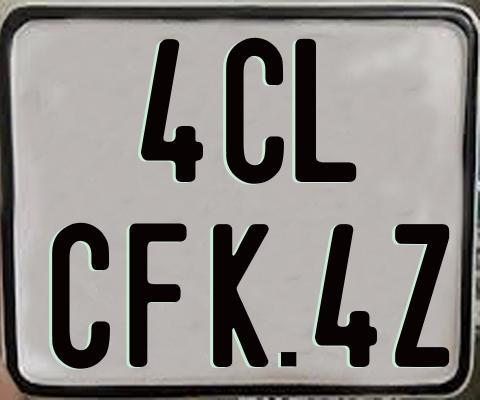4: (138, 36, 205, 183), (312, 223, 378, 370)
C: (50, 223, 111, 375), (226, 36, 288, 185)
F: (127, 222, 191, 366)
K: (211, 222, 269, 370)
L: (294, 38, 355, 182)
Z: (394, 221, 448, 368)
